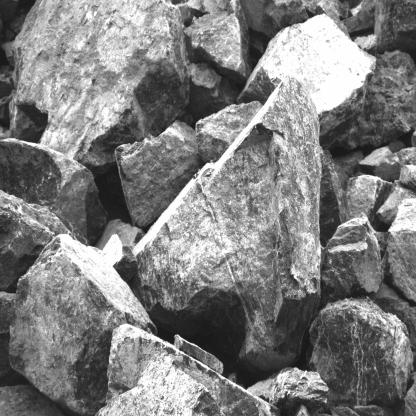stone: (128, 70, 322, 375), (12, 0, 190, 179), (9, 234, 158, 416), (236, 13, 377, 147), (306, 295, 414, 412), (0, 138, 108, 244), (115, 120, 202, 227), (95, 353, 226, 416), (183, 0, 252, 83), (321, 212, 382, 303), (246, 367, 329, 411), (388, 198, 416, 304), (345, 174, 392, 229), (357, 146, 401, 181)
